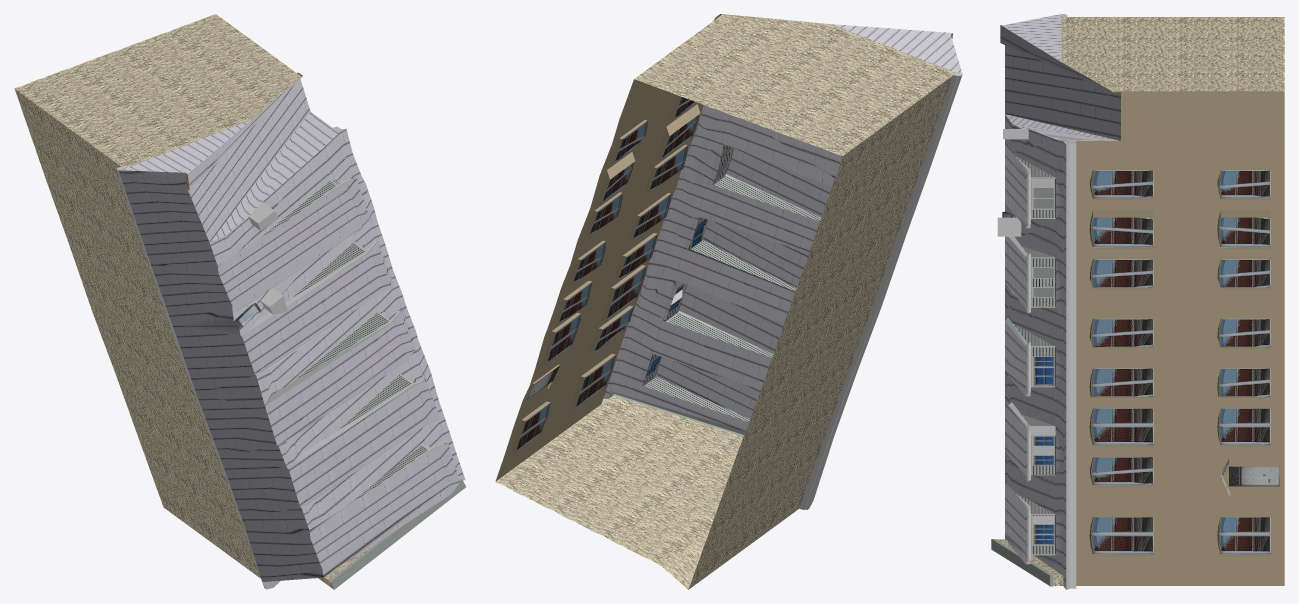
Rendered from Uus_15_2-origo.obj.
3 views of the same model, side by side, from view 1: azimuth 30°, elevation 25°; view 2: azimuth 150°, elevation 25°; view 3: azimuth 270°, elevation 25° (orthographic). The views are drawn at different scales.
Visible parts, largest first — view 1: Uus15; view 2: Uus15; view 3: Uus15.
Boxes of the visible parts, bbox=[...] form: Uus15: bbox=[14, 14, 465, 589]; Uus15: bbox=[495, 14, 962, 589]; Uus15: bbox=[991, 14, 1284, 589].
Bounding box in the file's own units: 21.69 × 28.5 × 15.53.
